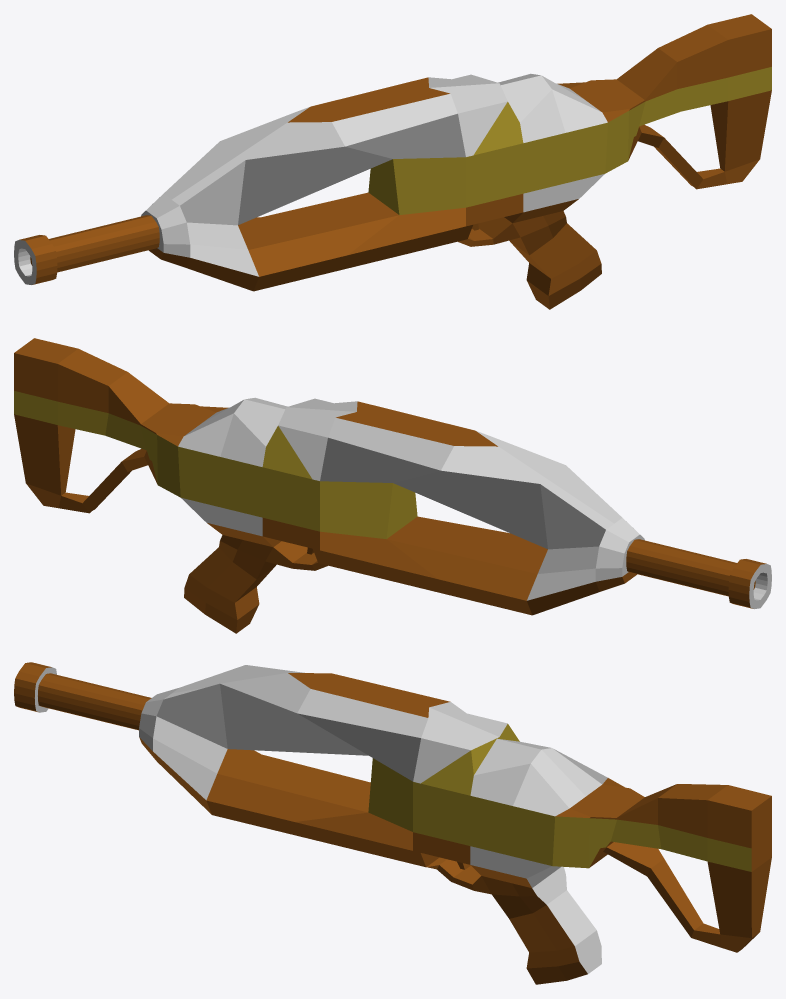
File: BlASTER.fbx
3 views of the same model, one above another, from view 1: azimuth 30°, elevation 25°; view 2: azimuth 150°, elevation 25°; view 3: azimuth 330°, elevation 25° (orthographic).
Parts seen in each view (by area): view 1: Blaster; view 2: Blaster; view 3: Blaster.
Boxes of the visible parts, x1,y1,x2,y2 form: Blaster: (14,14,771,309); Blaster: (14,338,771,633); Blaster: (14,662,771,984).
Bounding box in the file's own units: 268 × 84.92 × 33.27.
